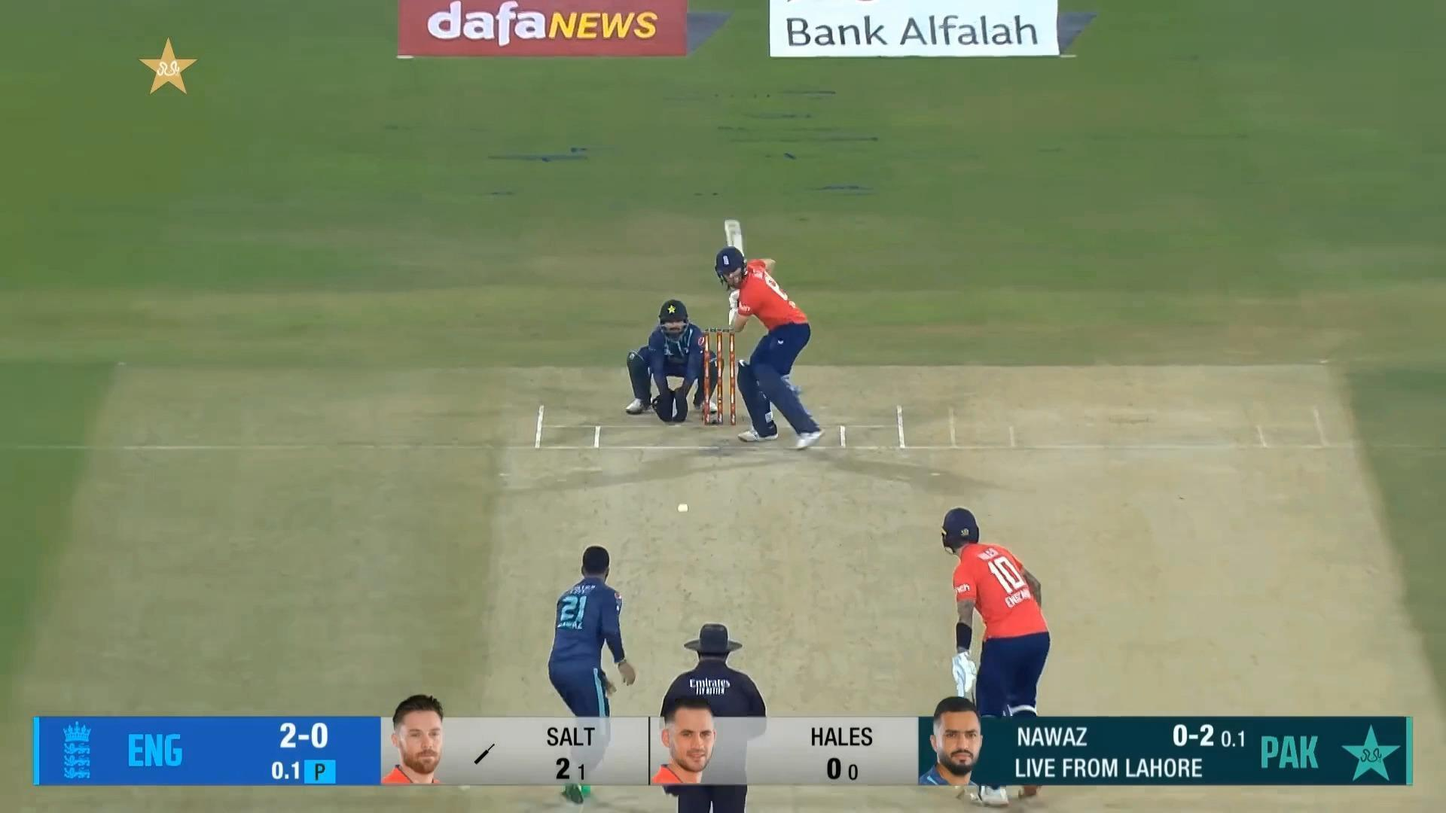BM 1: (714, 220, 825, 452)
BO: (543, 540, 639, 808)
